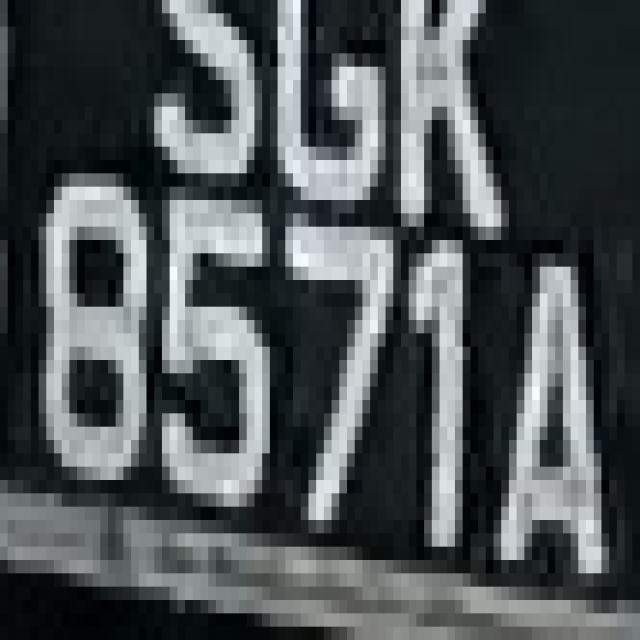1: (416, 213, 486, 600)
5: (154, 147, 278, 560)
7: (270, 186, 401, 586)
8: (39, 93, 154, 547)
A: (501, 200, 609, 600)
